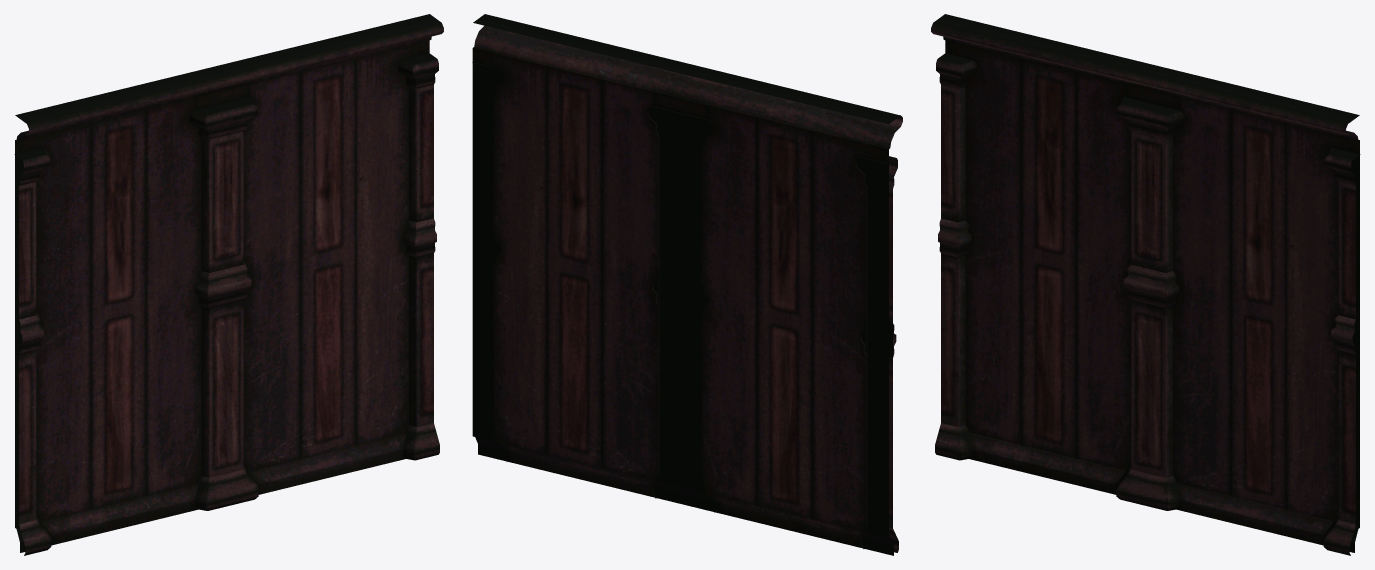
The picture shows the model from 3 angles, left to right: view 1: azimuth 30°, elevation 25°; view 2: azimuth 150°, elevation 25°; view 3: azimuth 330°, elevation 25°; orthographic projection.
Visible parts, largest first — view 1: default02; view 2: default02; view 3: default02.
Part boxes in pixels (bbox=[...]): default02: bbox=[14, 14, 443, 555]; default02: bbox=[472, 14, 902, 555]; default02: bbox=[931, 14, 1360, 555].
Bounding box in the file's own units: 4 × 4 × 0.2475.
Materials: 1 (1 with a texture image).
